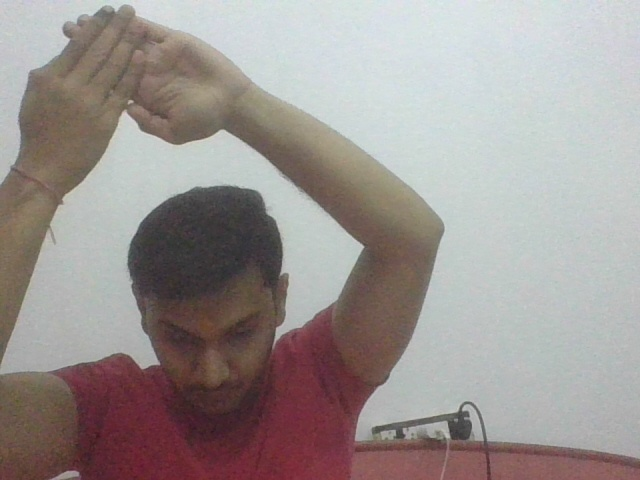H: (16, 4, 233, 162)
